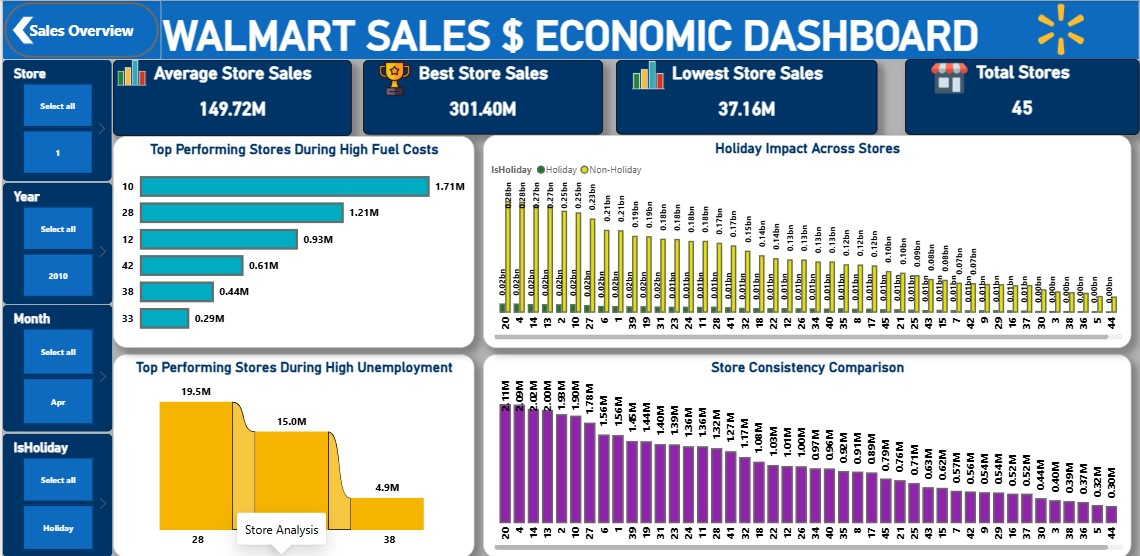

The page's visual inventory and layout, read from the dashboard file:
{"tool":"powerbi","page":{"name":"Store Analysis ","canvas":[1649,809],"ordinal":1},"visuals":[{"type":"card","title":"Average Store Sales","fields":{"Values":["Walmart.Average Store Sales"]},"box":[161.4,86.9,345.8,109.9],"z":0},{"type":"slicer","fields":{"Values":["Walmart.Store"]},"box":[0,85.5,160,178],"z":1000},{"type":"slicer","fields":{"Values":["Walmart.Year"]},"box":[0,263.9,160.9,178],"z":2000},{"type":"slicer","fields":{"Values":["Walmart.Month"]},"box":[0,440.7,160.9,185.6],"z":3000},{"type":"slicer","fields":{"Values":["Walmart.IsHoliday"]},"box":[0,627.7,161.4,180.9],"z":4000},{"type":"card","title":"Lowest Store Sales ","fields":{"Values":["Walmart.Lowest Store Sales"]},"box":[890.1,86.9,379.4,108.2],"z":5000},{"type":"card","title":"Best Store Sales","fields":{"Values":["Walmart.Best Store Sales"]},"box":[523.1,86.9,347.5,108.2],"z":6000},{"type":"card","fields":{"Values":["Walmart.Dashboard Title"]},"box":[0,0,1649,86.9],"z":7000},{"type":"card","title":"Total Stores","fields":{"Values":["Walmart.Total Stores"]},"box":[1308.6,85.1,340.4,109.9],"z":8000},{"type":"actionButton","box":[0,0,230.5,86.9],"z":9000},{"type":"shape","box":[14.2,23.1,33,40.8],"z":10000},{"type":"columnChart","title":"Top Performing Stores During High Unemployment","fields":{"Category":["Walmart.Store"],"Y":["Sum(Walmart.Weekly_Sales)"]},"box":[160.8,512.8,523.9,296.2],"z":11000},{"type":"clusteredBarChart","title":"Top Performing Stores During High Fuel Costs","fields":{"Category":["Walmart.Store"],"Y":["Sum(Walmart.Weekly_Sales)"]},"box":[160.8,197.5,523.9,307.4],"z":12000},{"type":"columnChart","title":"Store Consistency Comparison","fields":{"Category":["Walmart.Store"],"Y":["Avg(Walmart.Weekly_Sales)"]},"box":[697.5,512.8,939.6,296.2],"z":13000},{"type":"clusteredColumnChart","title":"Holiday Impact Across Stores","fields":{"Category":["Walmart.Store"],"Y":["Sum(Walmart.Weekly_Sales)"],"Series":["Walmart.IsHoliday"]},"box":[697.5,195.9,939.6,308.9],"z":14000},{"type":"image","box":[159.6,85.1,56.7,39],"z":14001},{"type":"image","box":[1422,0,227,85.1],"z":14002},{"type":"image","box":[540.8,86.9,56.7,55],"z":14003},{"type":"image","box":[1324.5,86.9,97.5,53.2],"z":14004},{"type":"image","box":[904.3,86.9,65.6,42.6],"z":14005}]}

Visuals, with their boxes in screenshot pixels (x1, y1, x2, y2), scaled from the page's 1649x809 canvas onto the 1140x556 screenshot:
"Average Store Sales" card: bbox=(112, 60, 351, 135)
slicer - Walmart.Store: bbox=(0, 59, 111, 181)
slicer - Walmart.Year: bbox=(0, 181, 111, 304)
slicer - Walmart.Month: bbox=(0, 303, 111, 430)
slicer - Walmart.IsHoliday: bbox=(0, 431, 112, 555)
"Lowest Store Sales " card: bbox=(615, 60, 878, 134)
"Best Store Sales" card: bbox=(362, 60, 602, 134)
card - Walmart.Dashboard Title: bbox=(0, 0, 1139, 60)
"Total Stores" card: bbox=(905, 58, 1139, 134)
actionButton: bbox=(0, 0, 159, 60)
shape: bbox=(10, 16, 33, 44)
"Top Performing Stores During High Unemployment" columnChart: bbox=(111, 352, 473, 555)
"Top Performing Stores During High Fuel Costs" clusteredBarChart: bbox=(111, 136, 473, 347)
"Store Consistency Comparison" columnChart: bbox=(482, 352, 1132, 555)
"Holiday Impact Across Stores" clusteredColumnChart: bbox=(482, 135, 1132, 347)
image: bbox=(110, 58, 150, 85)
image: bbox=(983, 0, 1139, 58)
image: bbox=(374, 60, 413, 98)
image: bbox=(916, 60, 983, 96)
image: bbox=(625, 60, 671, 89)
